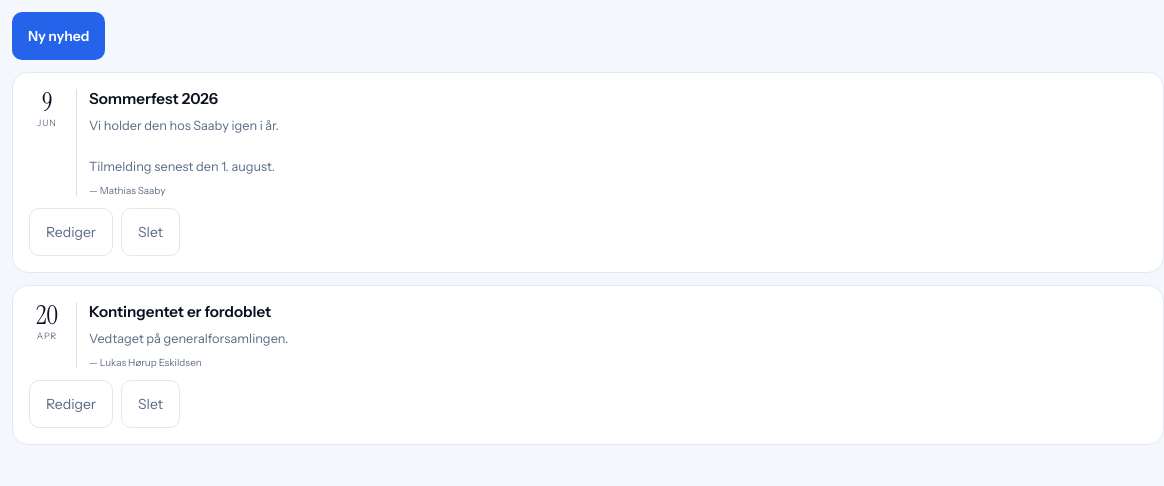
it: deleting a news item › asks first, and names what is about to go
The width and height of the screenshot is (1164, 486).
Expected: the heading "Sommerfest 2026" is shown, x1=89 y1=89 x2=218 y2=108
Click the button "Slet" below "Mathias Saaby": point(151, 232) x1=121 y1=208 x2=180 y2=256
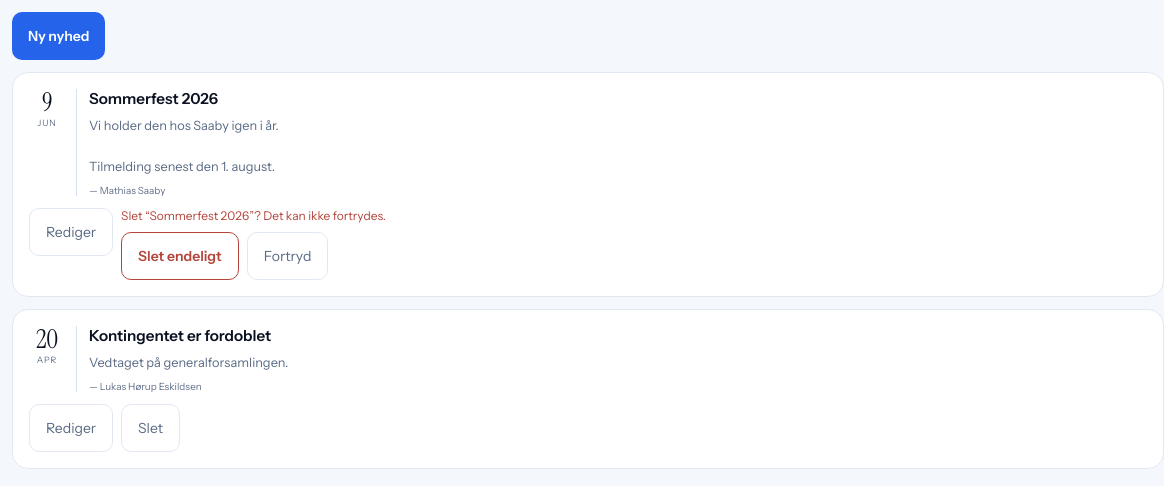
Expected: the message reads "Slet “Sommerfest 2026”? Det kan ikke fortrydes.", x1=121 y1=208 x2=386 y2=224
